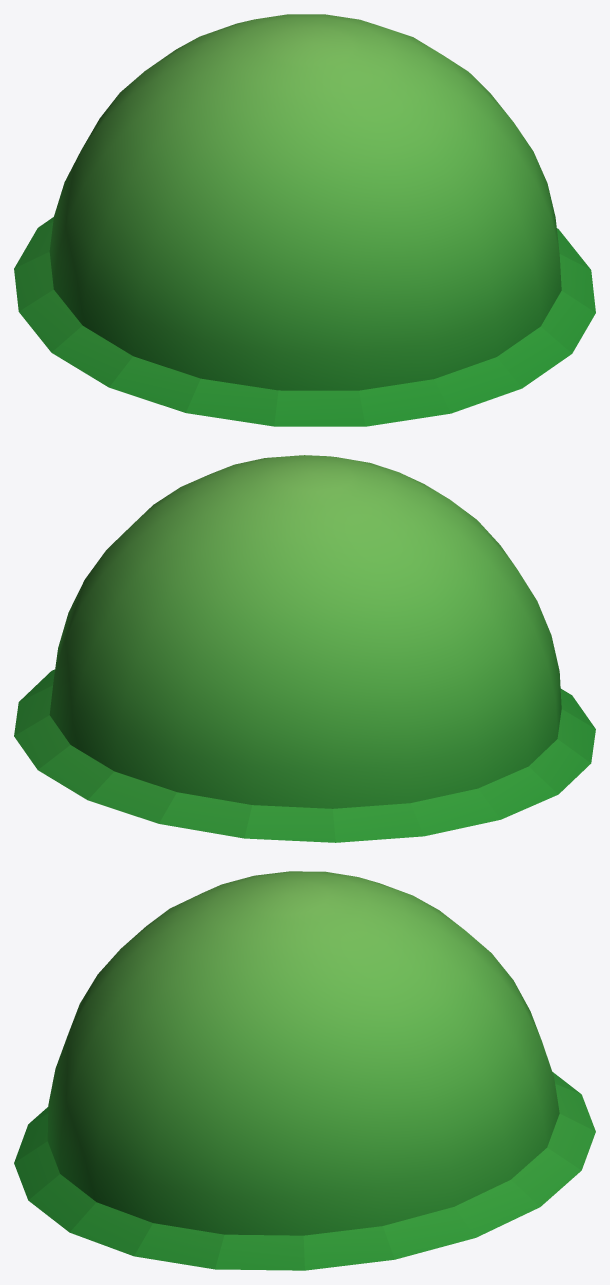
Rendered from Casque.fbx.
The picture shows the model from 3 angles, top to bottom: view 1: azimuth 30°, elevation 25°; view 2: azimuth 150°, elevation 25°; view 3: azimuth 270°, elevation 25°; orthographic projection.
Parts seen in each view (by area): view 1: Casque; view 2: Casque; view 3: Casque.
Boxes of the visible parts, bbox=[...] form: Casque: bbox=[14, 14, 595, 426]; Casque: bbox=[14, 455, 595, 842]; Casque: bbox=[14, 871, 595, 1270].
Size of the model in its own units: 308 by 156 by 307.
1 material, 1 textured.
